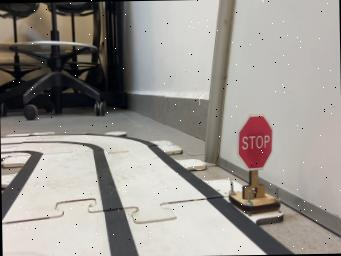stop: (228, 114, 280, 212), (228, 114, 280, 212), (228, 114, 280, 212), (228, 114, 280, 212), (228, 114, 280, 212), (228, 114, 280, 212)
street: (0, 133, 293, 256), (0, 133, 293, 256), (0, 133, 293, 256), (0, 133, 293, 256), (0, 133, 293, 256), (0, 133, 293, 256)
